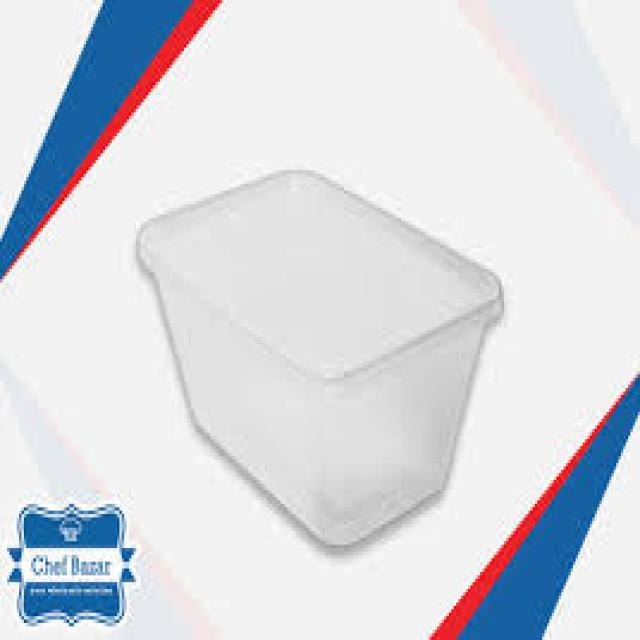disposable: (125, 146, 535, 581)
